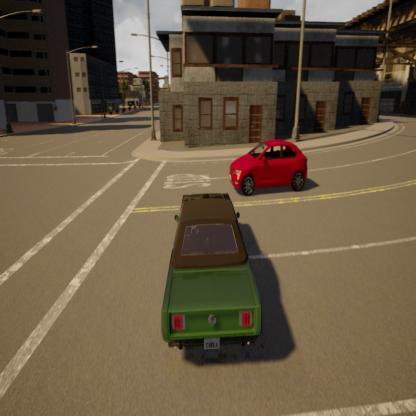Cars: (152, 178, 268, 372), (223, 134, 315, 195)
